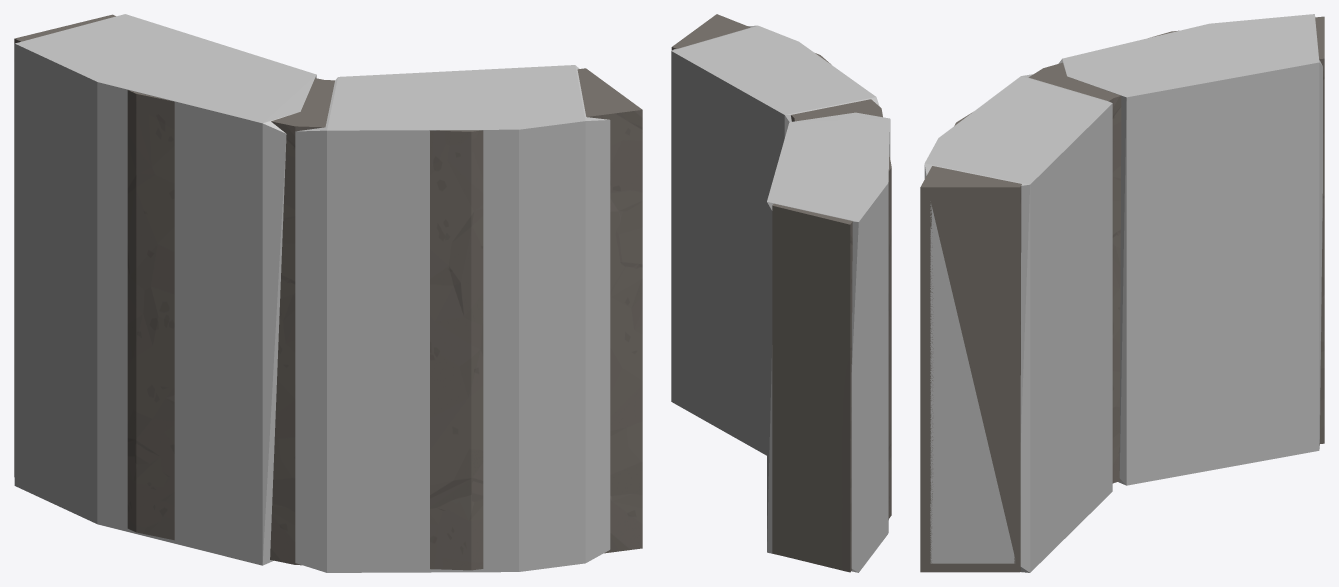
File: SM_Bld_House_Base_Wall_Curved_02.fbx
The picture shows the model from 3 angles, left to right: view 1: azimuth 30°, elevation 25°; view 2: azimuth 150°, elevation 25°; view 3: azimuth 270°, elevation 25°; orthographic projection. The views are drawn at different scales.
Parts seen in each view (by area): view 1: SM_Bld_House_Base_Wall_Curved_02_ConvexHulls, SM_Bld_House_Base_Wall_Curved_02; view 2: SM_Bld_House_Base_Wall_Curved_02_ConvexHulls, SM_Bld_House_Base_Wall_Curved_02; view 3: SM_Bld_House_Base_Wall_Curved_02_ConvexHulls, SM_Bld_House_Base_Wall_Curved_02.
Boxes of the visible parts, left/top/right/bottom form: SM_Bld_House_Base_Wall_Curved_02_ConvexHulls: left=14, top=14, right=610, bottom=572; SM_Bld_House_Base_Wall_Curved_02: left=14, top=14, right=642, bottom=570; SM_Bld_House_Base_Wall_Curved_02_ConvexHulls: left=671, top=25, right=890, bottom=572; SM_Bld_House_Base_Wall_Curved_02: left=671, top=14, right=891, bottom=572; SM_Bld_House_Base_Wall_Curved_02_ConvexHulls: left=924, top=14, right=1322, bottom=572; SM_Bld_House_Base_Wall_Curved_02: left=920, top=16, right=1324, bottom=572.
Size of the model in its own units: 289 by 285 by 303.
Materials: 2 (1 with a texture image).
